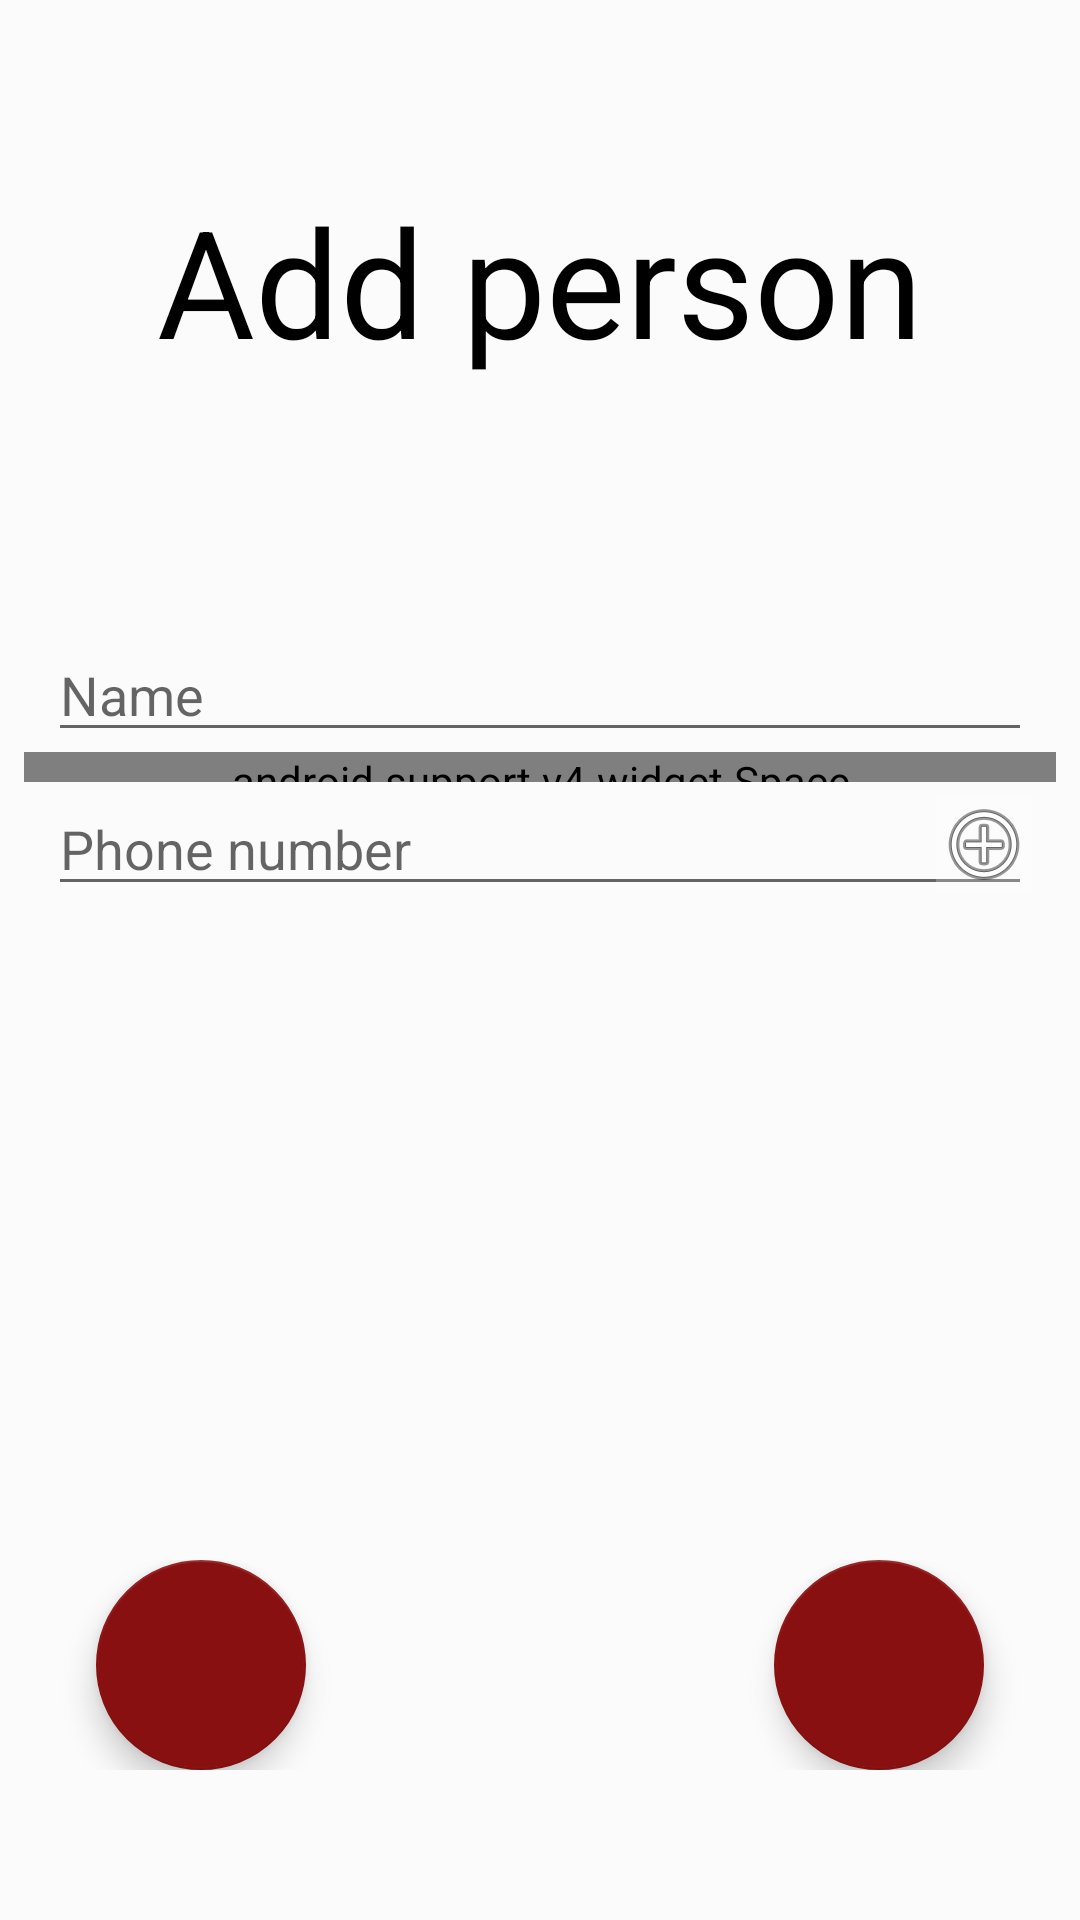

Icon click points for this 1080px x 1920px phone screenshot, format (x=x, y=y):
add: (x=984, y=844)
